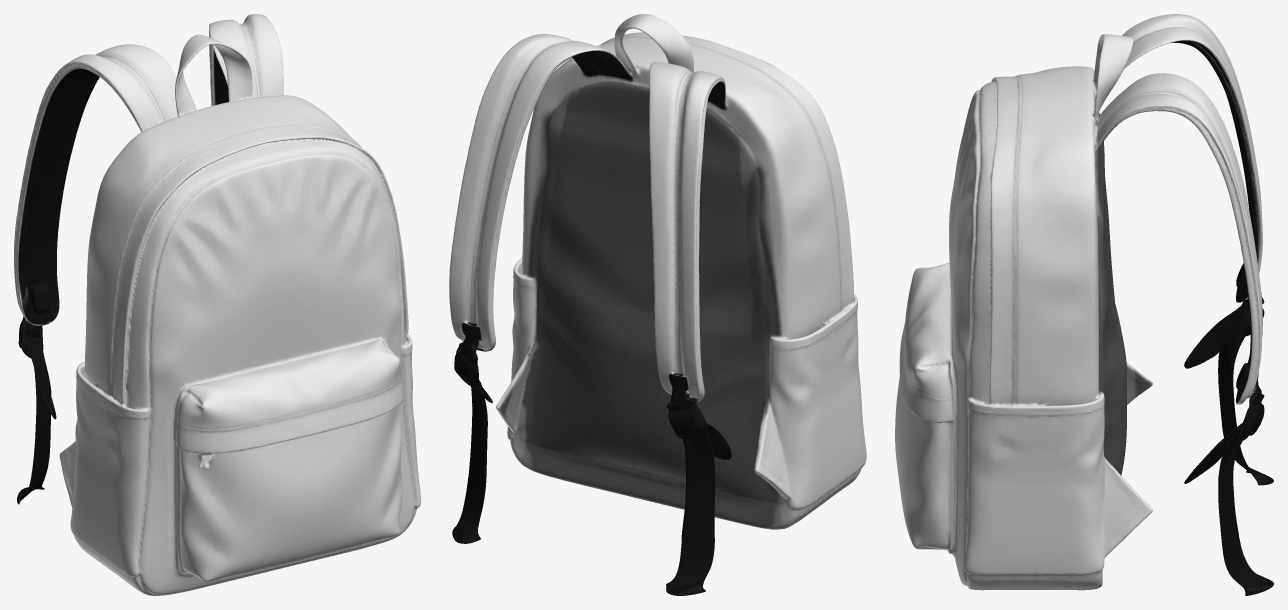
The model's file is source.glb.
3 renders of one model, left to right at view 1: azimuth 30°, elevation 25°; view 2: azimuth 150°, elevation 25°; view 3: azimuth 270°, elevation 25°, orthographic. The views are drawn at different scales.
Size of the model in its own units: 1.21 by 1.9 by 1.31.
1 material, 1 textured.
